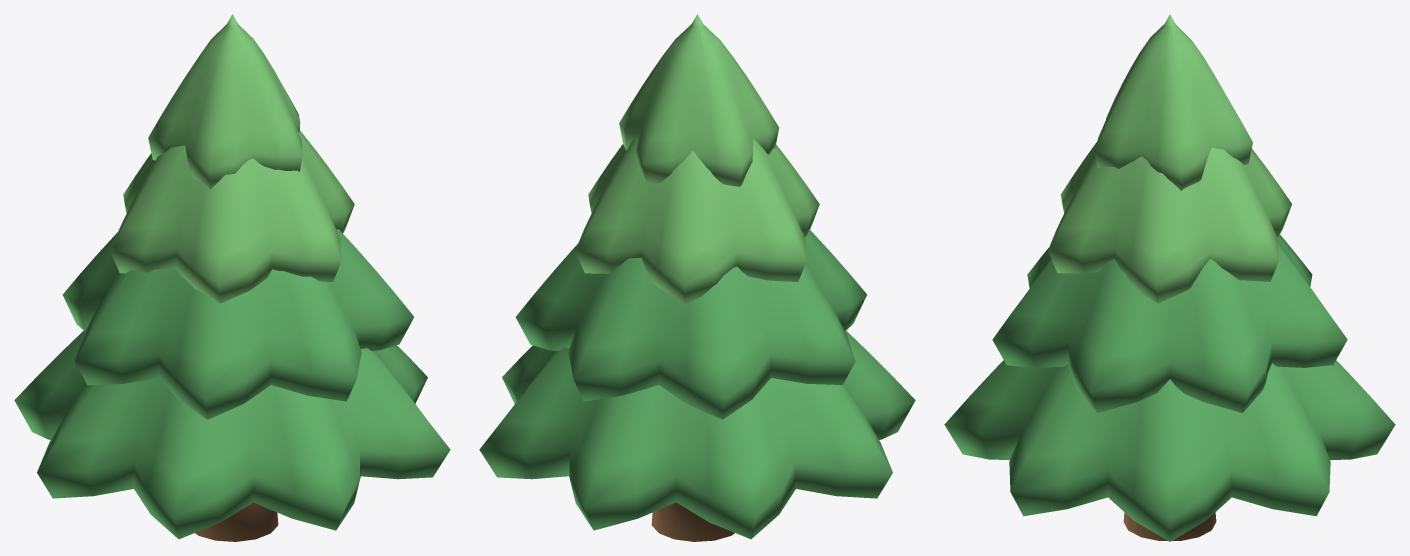
The model's file is pine-stylized.glb.
3 views of the same model, side by side, from view 1: azimuth 30°, elevation 25°; view 2: azimuth 150°, elevation 25°; view 3: azimuth 270°, elevation 25° (orthographic).
Visible parts, largest first — view 1: Tier0, Tier1, Tier2, Tier3, PineTrunk; view 2: Tier0, Tier1, Tier2, Tier3, PineTrunk; view 3: Tier0, Tier1, Tier2, Tier3, PineTrunk.
Part boxes in pixels (x1,y1,x2,y2): Tier0: (14, 330, 450, 539); Tier1: (62, 229, 413, 419); Tier2: (110, 131, 354, 303); Tier3: (148, 14, 302, 189); PineTrunk: (195, 502, 278, 541); Tier0: (479, 330, 915, 539); Tier1: (515, 230, 866, 419); Tier2: (575, 135, 819, 303); Tier3: (619, 14, 779, 186); PineTrunk: (651, 502, 734, 541); Tier0: (944, 360, 1395, 541); Tier1: (992, 234, 1347, 413); Tier2: (1048, 142, 1291, 303); Tier3: (1094, 14, 1252, 190); PineTrunk: (1123, 512, 1216, 540).
Size of the model in its own units: 1.12 by 1.39 by 1.12.
